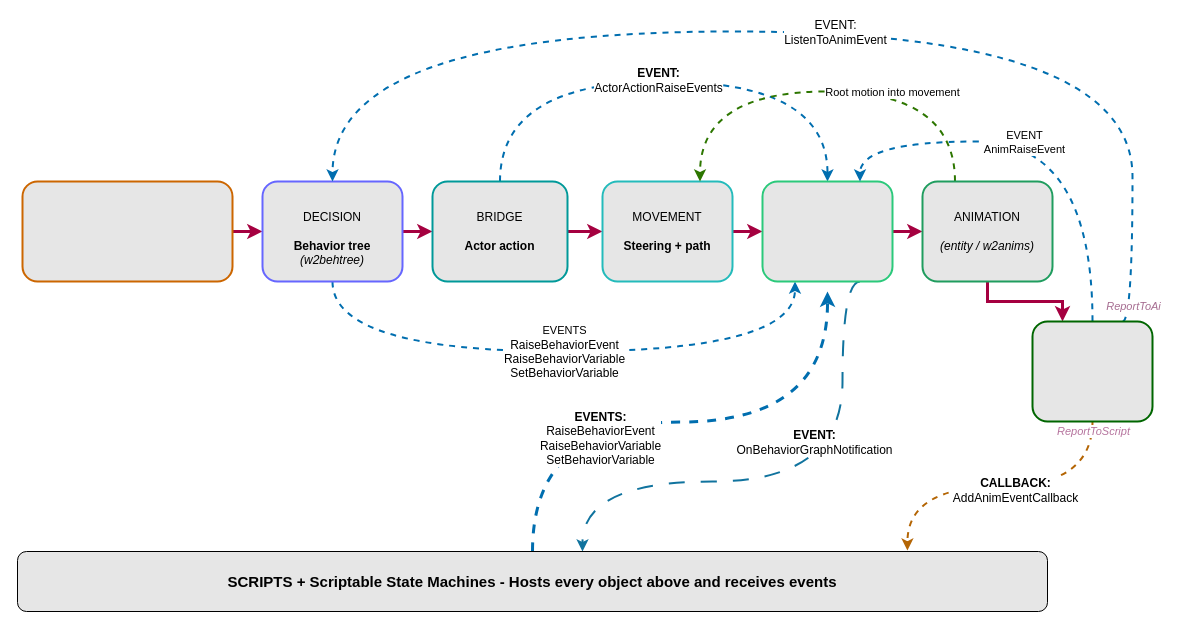
Some shapes in this 1178 by 629 pixel diagram are drawn without their labels. Each missing label, with the centre of its shape:
ANIMEVENTS (w2animev): point 1092,371
ANIMGRAPH Behavior graph (w2beh): point 827,231
ORCHESTRATOR Orchestration (spawn, reactions, ap, communities...): point 127,231
